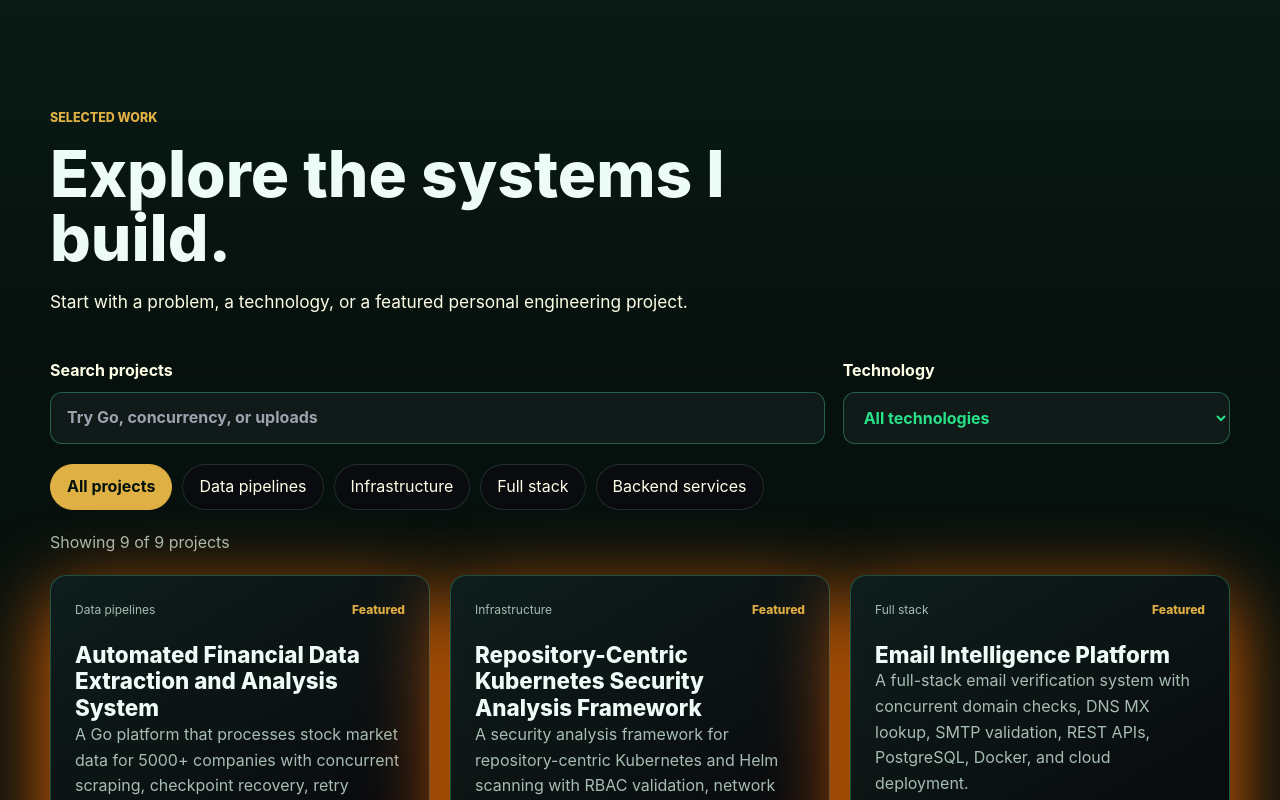
Test: combines project search and technology filters with a useful empty state
The width and height of the screenshot is (1280, 800).
Expected: the message shows "Showing 9 of 9", [50,530,230,555]
Type "load balancer" into the search field labelled "Search projects" at (437, 418), box [50,392,825,444]
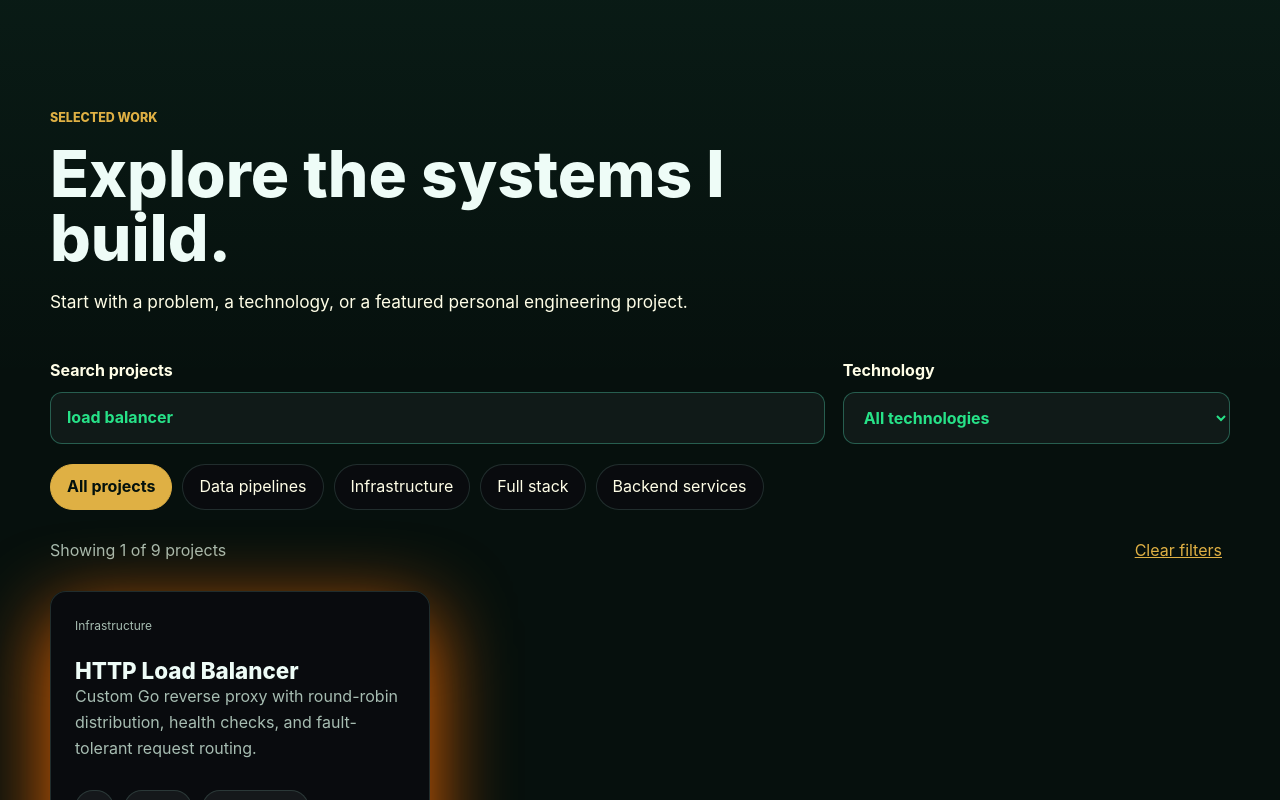
Expected: the heading "HTTP Load Balancer" is shown, [75,657,299,684]
Expected: the message shows "Showing 1 of 9", [50,538,226,563]
Select "React" in the dropdown labelled "Technology" at (1036, 418), box [843,392,1230,444]
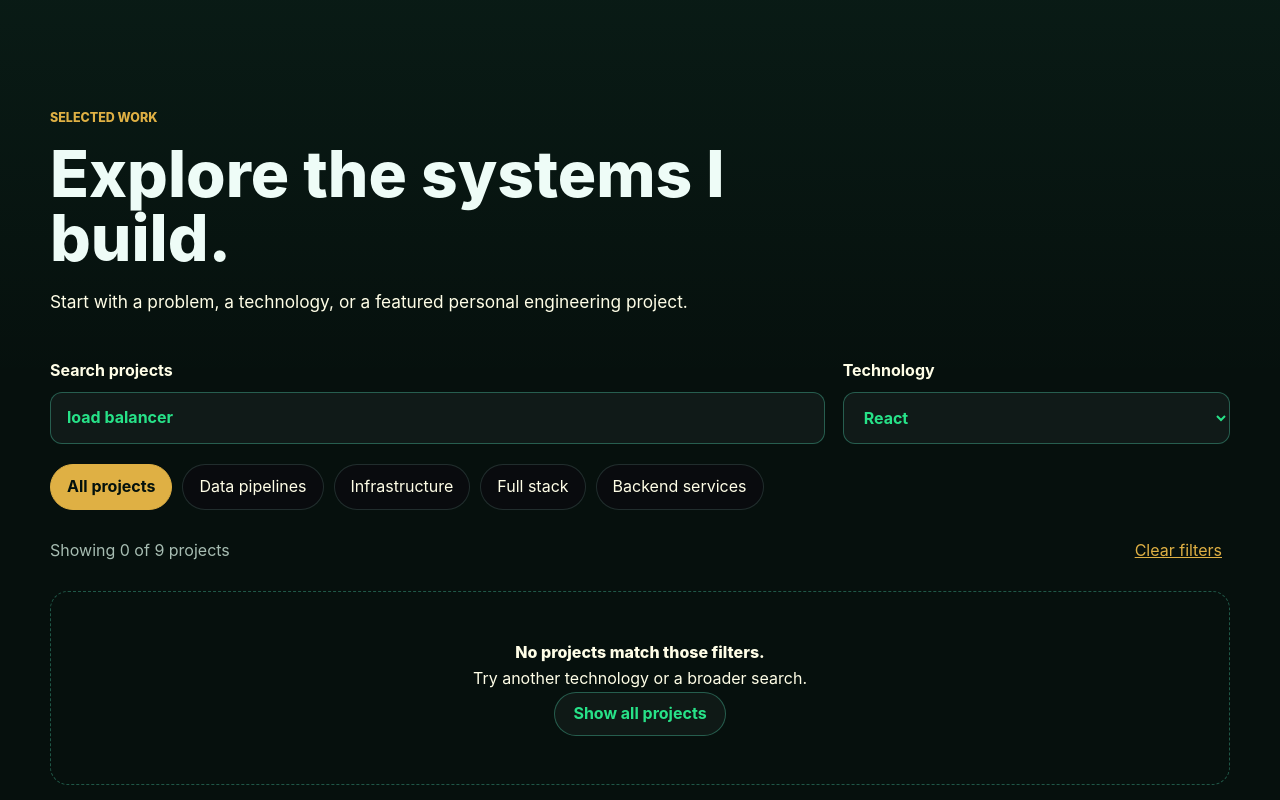
Expected: the heading "No projects match those filters." is shown, [515,642,765,662]
Click the button "Show all projects" at (640, 714), box [554,692,726,736]
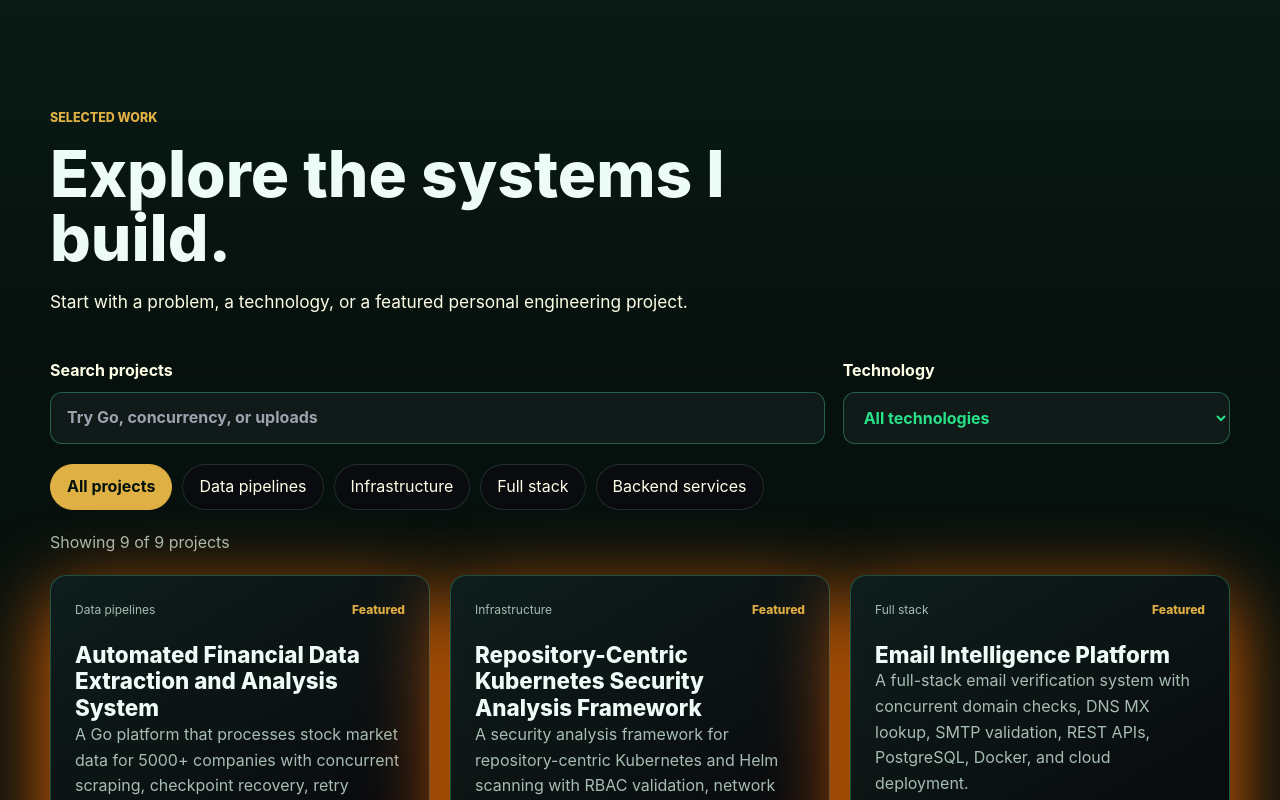
Expected: the message shows "Showing 9 of 9", [50,530,230,555]
